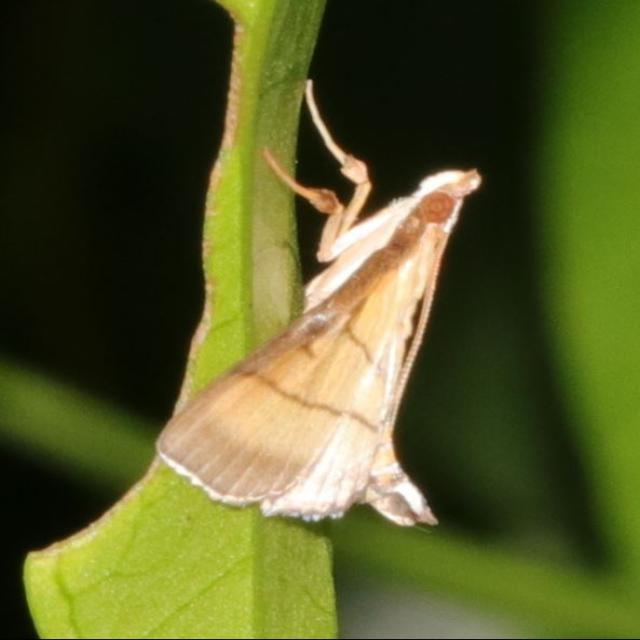rice leaf roller -penggulung daun padi-: (151, 76, 486, 532)
